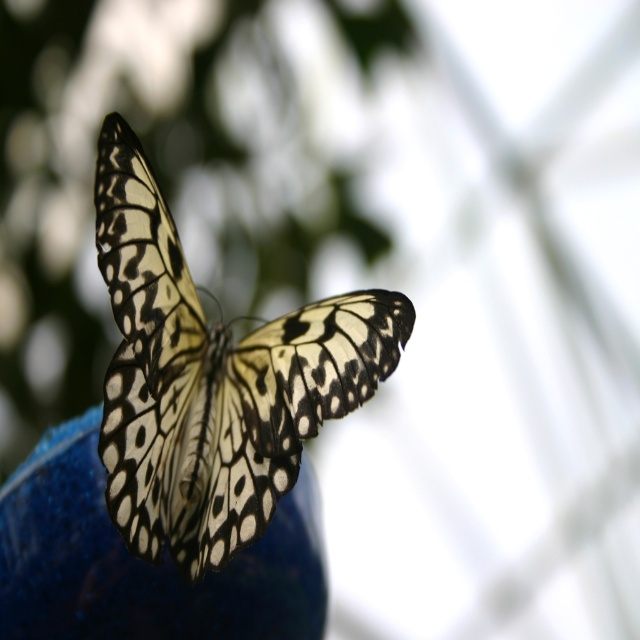Butterfly: (94, 121, 402, 612)
